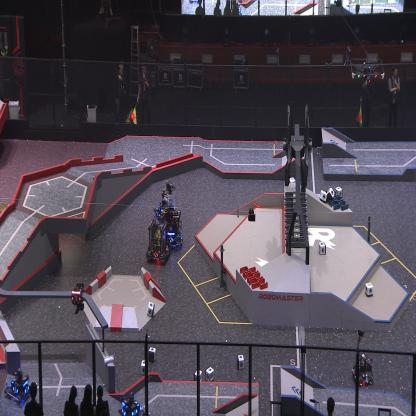car: (146, 216, 172, 265), (3, 368, 32, 406), (153, 181, 176, 220), (162, 210, 183, 252), (352, 352, 374, 386), (118, 391, 146, 416)
